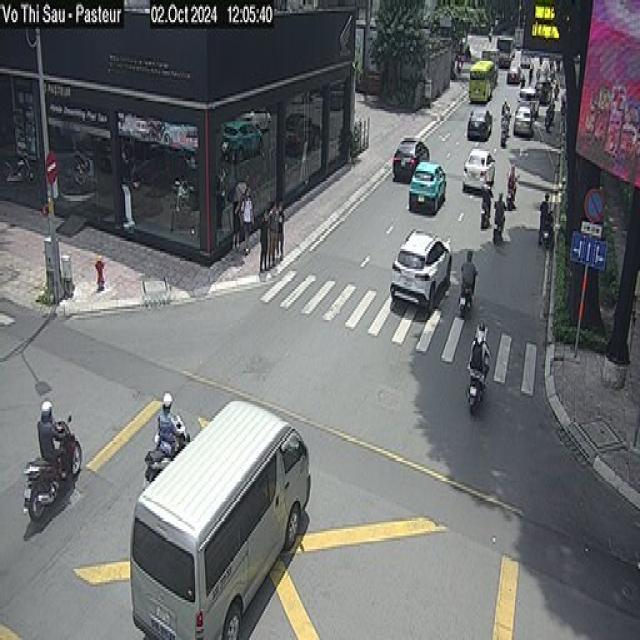car: (129, 396, 311, 638), (390, 227, 451, 311), (408, 160, 447, 213), (391, 136, 429, 182), (461, 147, 495, 191), (466, 107, 492, 140), (512, 104, 534, 136)
motorcycle: (22, 413, 82, 520), (144, 416, 190, 486), (465, 358, 489, 413)
person: (36, 398, 68, 476), (154, 391, 186, 458), (466, 320, 490, 398), (230, 184, 243, 258), (240, 187, 254, 253), (458, 247, 478, 291), (270, 200, 280, 266), (259, 209, 269, 271), (538, 191, 548, 245), (494, 191, 505, 238), (277, 204, 285, 262)
